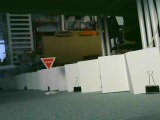stop: (39, 56, 57, 71)
